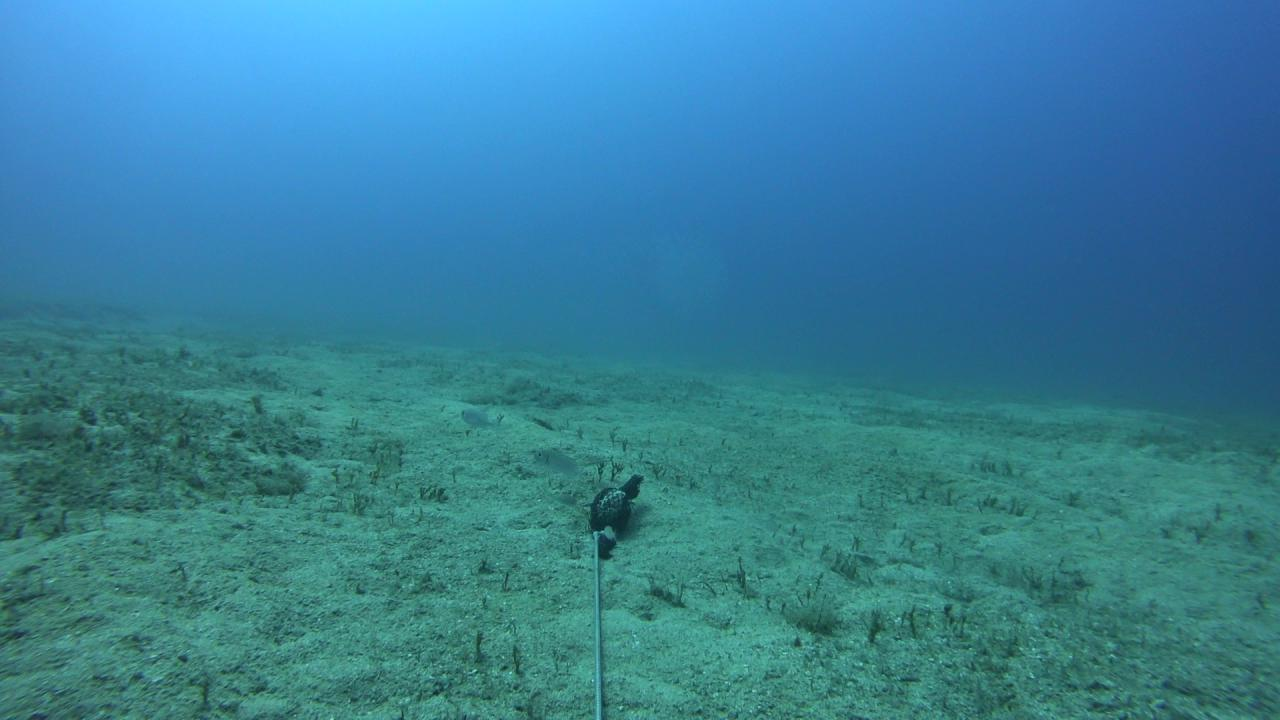pagellus: (532, 448, 582, 479), (458, 408, 501, 434), (548, 489, 582, 508)
